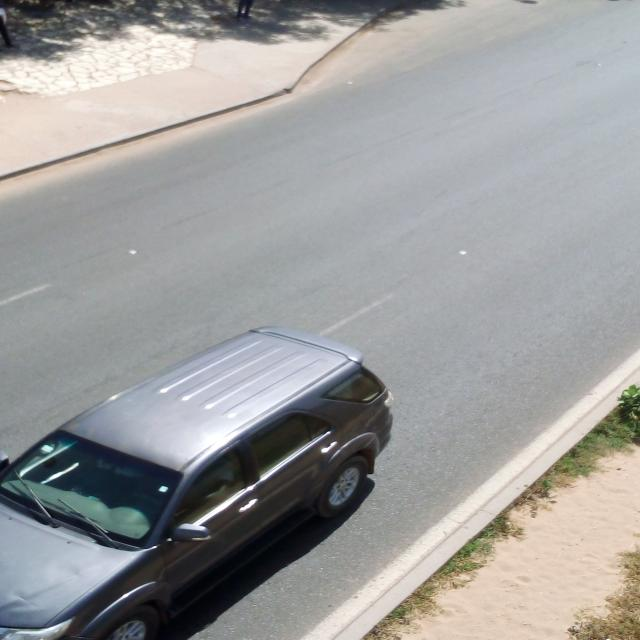particulier: (1, 329, 394, 640)
